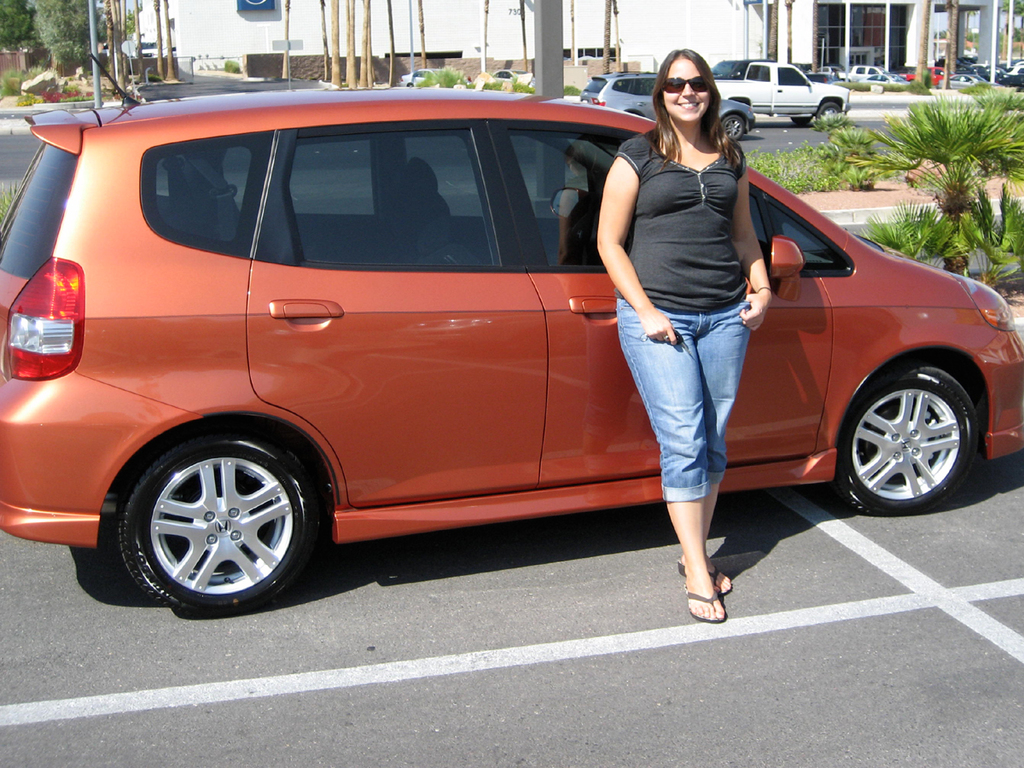Person: (597, 48, 771, 624)
